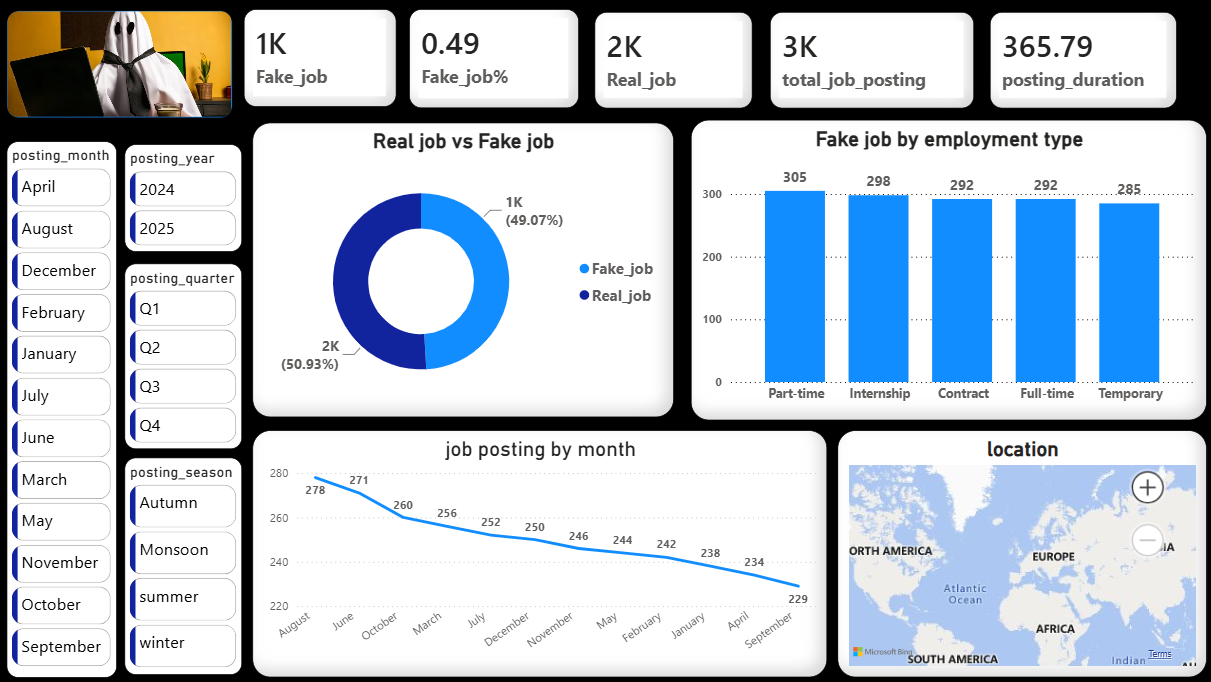

The dashboard page shown, as its layout file describes it:
{"tool":"powerbi","page":{"name":"Page 1","canvas":[1280,720],"ordinal":0},"visuals":[{"type":"advancedSlicerVisual","fields":{"Values":["job_postings.posting_month"]},"box":[8.9,150.2,116,565.2],"z":0},{"type":"image","box":[9.1,12.1,237.7,113.5],"z":1000},{"type":"cardVisual","fields":{"Data":["job_postings.Fake_job"]},"box":[258.9,10.6,160.5,102.9],"z":2000},{"type":"cardVisual","fields":{"Data":["job_postings.Fake_job%"]},"box":[432.9,10.6,178.6,104.5],"z":3000},{"type":"cardVisual","fields":{"Data":["job_postings.Real_job"]},"box":[628.2,13.6,166.5,101.4],"z":4000},{"type":"cardVisual","fields":{"Data":["job_postings.total_job_posting"]},"box":[812.9,13.6,215,101.4],"z":5000},{"type":"cardVisual","fields":{"Data":["job_postings.avg_posting_duration"]},"box":[1047.5,13.6,196.7,101.3],"z":6000},{"type":"donutChart","title":" Real job vs Fake job","fields":{"Y":["job_postings.Fake_job","job_postings.Real_job"]},"box":[267.9,130.2,443.5,310.3],"z":7000},{"type":"advancedSlicerVisual","fields":{"Values":["job_postings.posting_year"]},"box":[133.2,152.9,124.1,113.5],"z":8000},{"type":"advancedSlicerVisual","fields":{"Values":["job_postings.posting_quarter"]},"box":[133.2,278.5,124.1,195.3],"z":9000},{"type":"advancedSlicerVisual","fields":{"Values":["job_postings.posting_season"]},"box":[133.2,482.9,124.1,228.6],"z":10000},{"type":"filledMap","fields":{"Category":["job_postings.location"]},"box":[884.1,454.1,389,260.4],"z":11000},{"type":"lineChart","title":"job posting by  month","fields":{"Y":["job_postings.total_job_posting"],"Category":["job_postings.posting_month"]},"box":[267.9,454.1,605.5,260.4],"z":12000},{"type":"columnChart","title":"Fake Job Rate by Employment Type","fields":{"Category":["job_postings.employment_type"],"Y":["job_postings.Fake_job"]},"box":[729.6,127.2,543.4,316.4],"z":13000}]}

Visuals, with their boxes in screenshot pixels (x1, y1, x2, y2), scaled from the page's 1280x720 canvas onto the 1211x682 screenshot:
advancedSlicerVisual - job_postings.posting_month: (8, 142, 118, 678)
image: (9, 11, 233, 119)
cardVisual - job_postings.Fake_job: (245, 10, 397, 108)
cardVisual - job_postings.Fake_job%: (410, 10, 579, 109)
cardVisual - job_postings.Real_job: (594, 13, 752, 109)
cardVisual - job_postings.total_job_posting: (769, 13, 972, 109)
cardVisual - job_postings.avg_posting_duration: (991, 13, 1177, 109)
" Real job vs Fake job" donutChart: (253, 123, 673, 417)
advancedSlicerVisual - job_postings.posting_year: (126, 145, 243, 252)
advancedSlicerVisual - job_postings.posting_quarter: (126, 264, 243, 449)
advancedSlicerVisual - job_postings.posting_season: (126, 457, 243, 674)
filledMap - job_postings.location: (836, 430, 1204, 677)
"job posting by  month" lineChart: (253, 430, 826, 677)
"Fake Job Rate by Employment Type" columnChart: (690, 120, 1204, 420)
